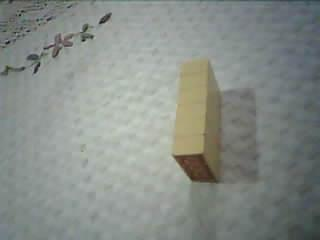lego: (170, 58, 222, 184)
